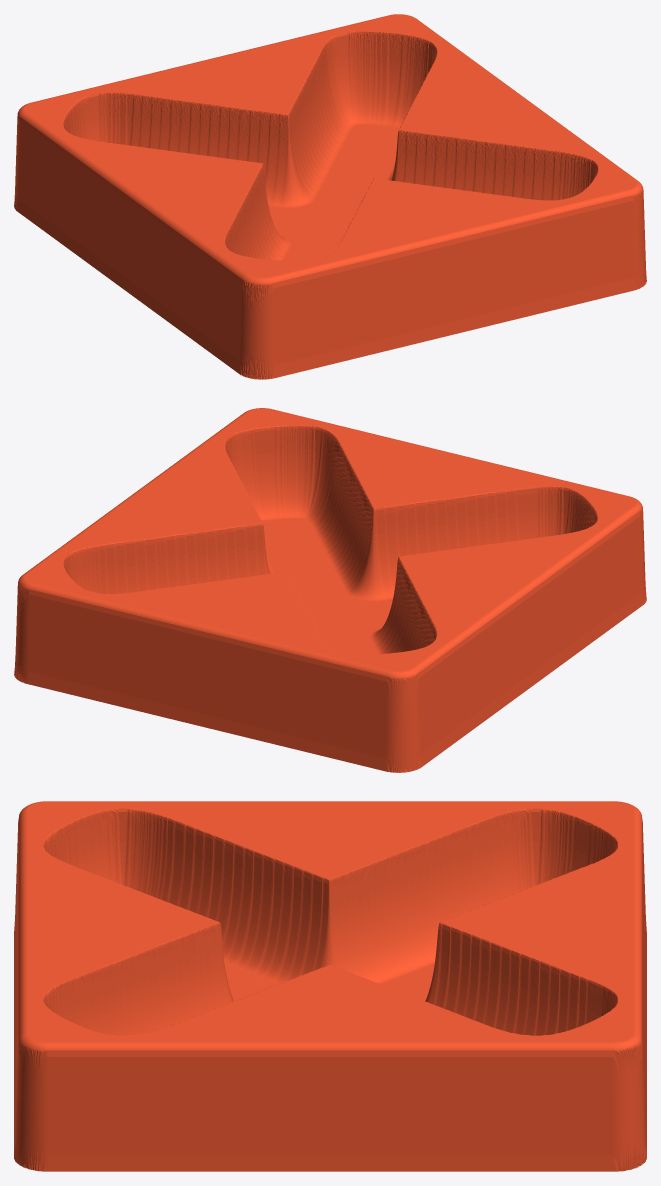
The model's file is mold.glb.
The picture shows the model from 3 angles, top to bottom: view 1: azimuth 30°, elevation 25°; view 2: azimuth 150°, elevation 25°; view 3: azimuth 270°, elevation 25°; orthographic projection. The views are drawn at different scales.
Parts seen in each view (by area): view 1: geometry_0; view 2: geometry_0; view 3: geometry_0.
Boxes of the visible parts, x1,y1,x2,y2 form: geometry_0: [14, 14, 646, 379]; geometry_0: [14, 408, 646, 772]; geometry_0: [14, 801, 646, 1171].
Size of the model in its own units: 0.1589 by 0.0365 by 0.1689.
